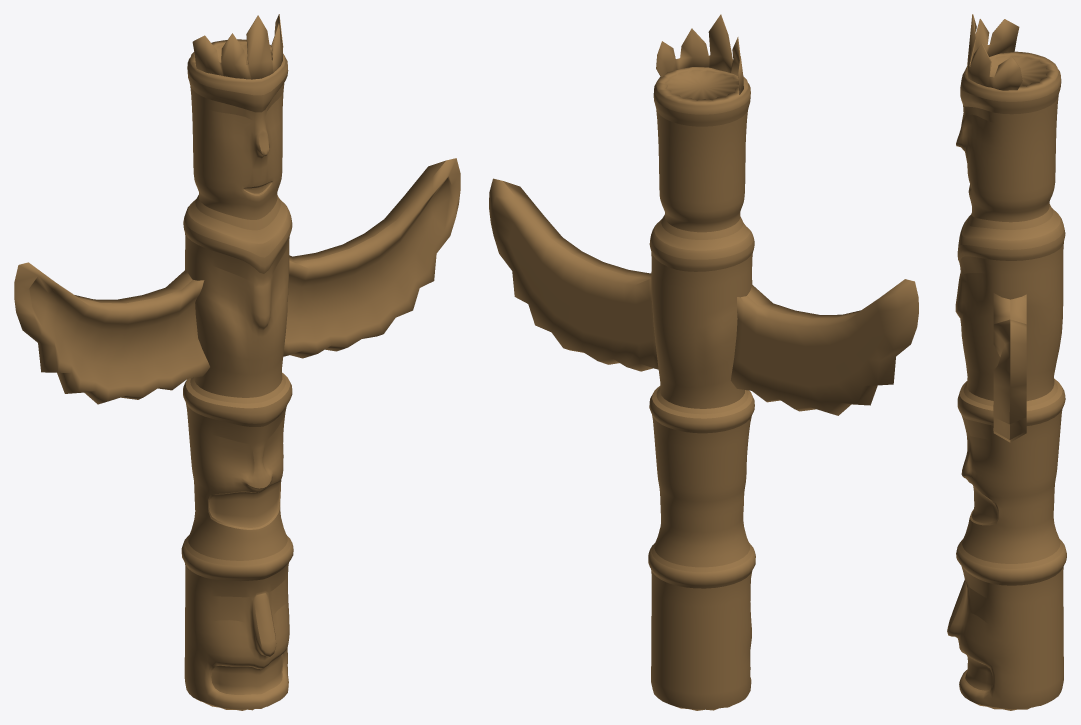
The model's file is totem_02.fbx.
3 renders of one model, left to right at view 1: azimuth 30°, elevation 25°; view 2: azimuth 150°, elevation 25°; view 3: azimuth 270°, elevation 25°, orthographic. The views are drawn at different scales.
Visible parts, largest first — view 1: TOTEM_02; view 2: TOTEM_02; view 3: TOTEM_02.
Part boxes in pixels (bbox=[...]): TOTEM_02: bbox=[14, 14, 460, 710]; TOTEM_02: bbox=[489, 14, 918, 710]; TOTEM_02: bbox=[947, 14, 1066, 710].
Bounding box in the file's own units: 941 × 1399 × 223.
